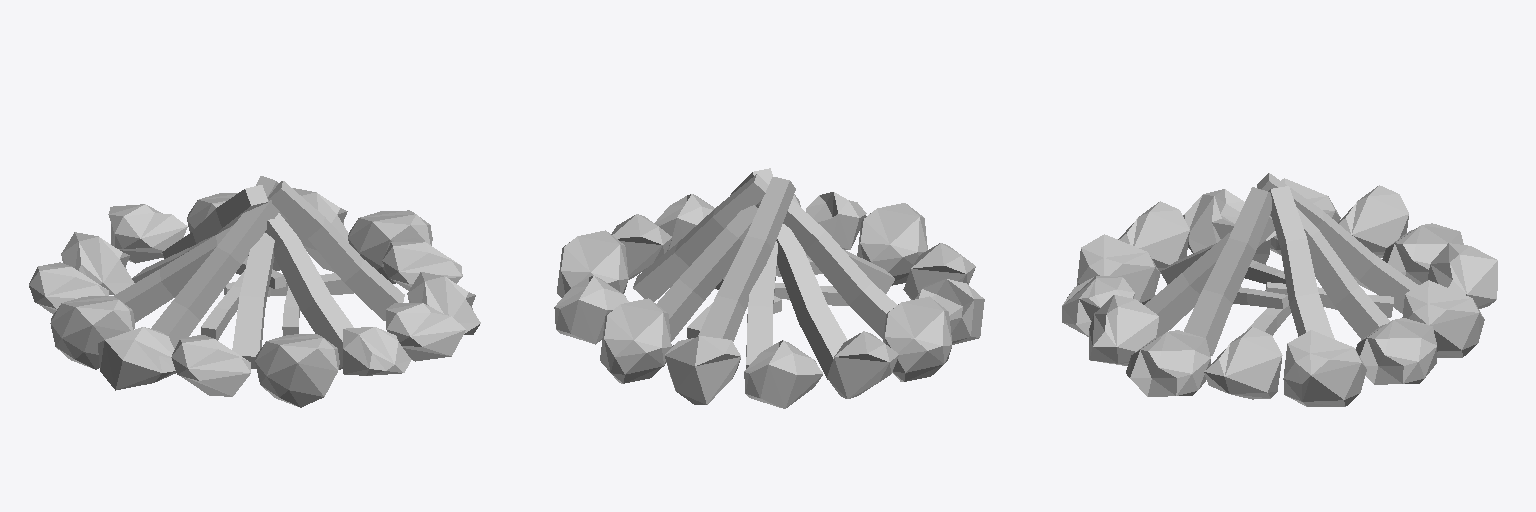
Rendered from FirePit.obj.
3 views of the same model, side by side, from view 1: azimuth 30°, elevation 25°; view 2: azimuth 150°, elevation 25°; view 3: azimuth 270°, elevation 25° (orthographic).
Visible parts, largest first — view 1: Icosphere.023_Icosphere.045; view 2: Icosphere.023_Icosphere.045; view 3: Icosphere.023_Icosphere.045.
Part boxes in pixels (x1,y1,x2,y2): Icosphere.023_Icosphere.045: (29, 176, 480, 407); Icosphere.023_Icosphere.045: (554, 168, 984, 408); Icosphere.023_Icosphere.045: (1062, 173, 1497, 406).
Size of the model in its own units: 10.29 by 3.9 by 10.24.